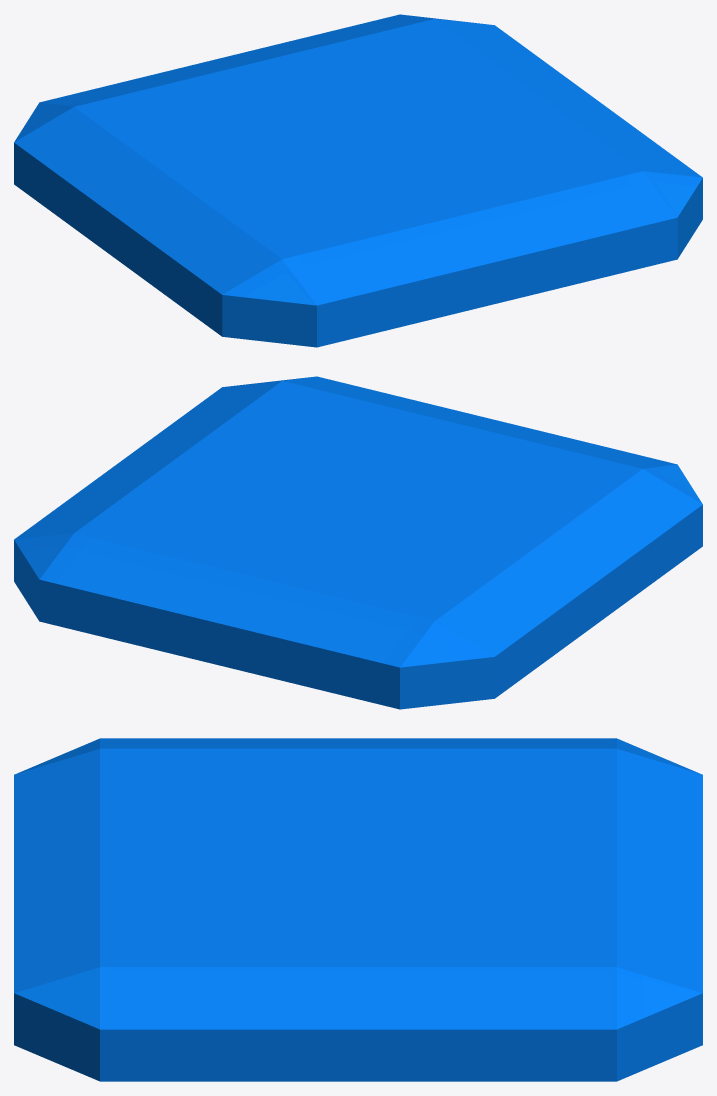
File: jumppad.gltf
The picture shows the model from 3 angles, top to bottom: view 1: azimuth 30°, elevation 25°; view 2: azimuth 150°, elevation 25°; view 3: azimuth 270°, elevation 25°; orthographic projection. The views are drawn at different scales.
Parts seen in each view (by area): view 1: beveled_cuboid; view 2: beveled_cuboid; view 3: beveled_cuboid.
Boxes of the visible parts, x1=… form: beveled_cuboid: x1=14, y1=14, x2=702, y2=347; beveled_cuboid: x1=14, y1=376, x2=702, y2=709; beveled_cuboid: x1=14, y1=738, x2=702, y2=1081.
Size of the model in its own units: 1.88 by 0.3125 by 1.88.
1 material, 1 textured.
